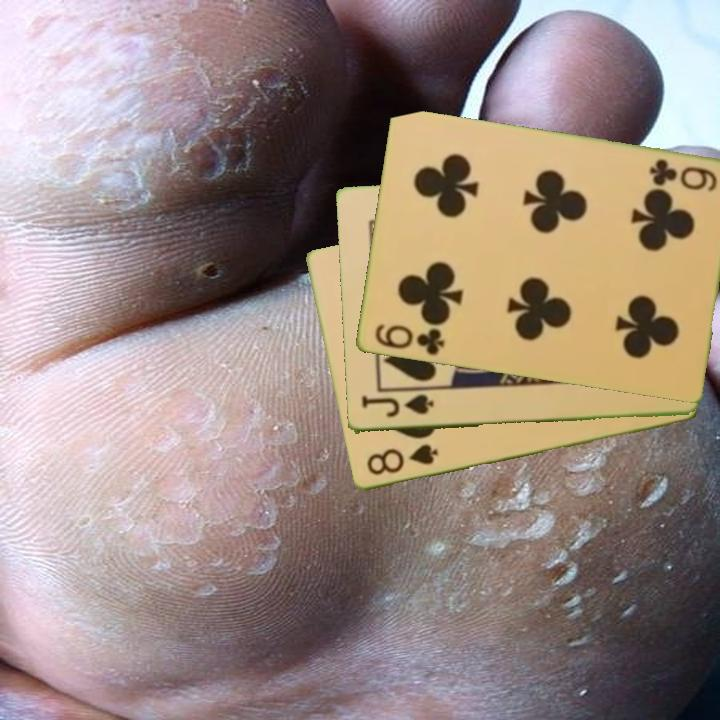6c: (371, 320, 447, 359), (645, 156, 719, 194)
8s: (363, 441, 441, 479)
Js: (358, 392, 436, 420)
